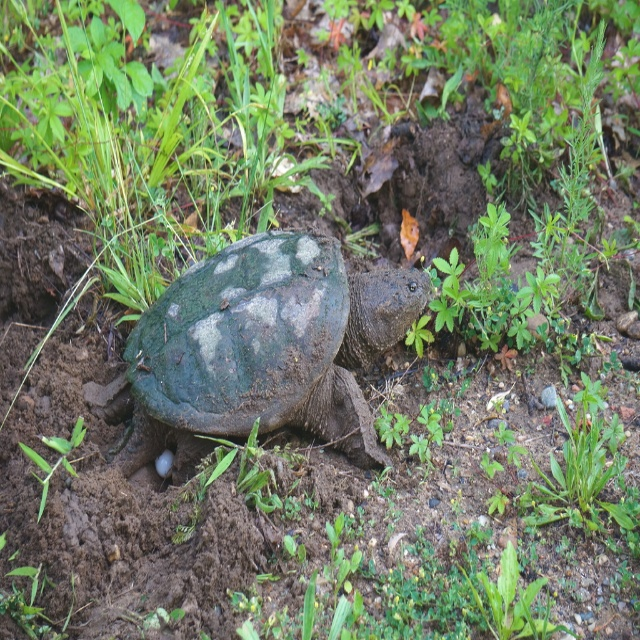Tortoise: (88, 228, 431, 480)
